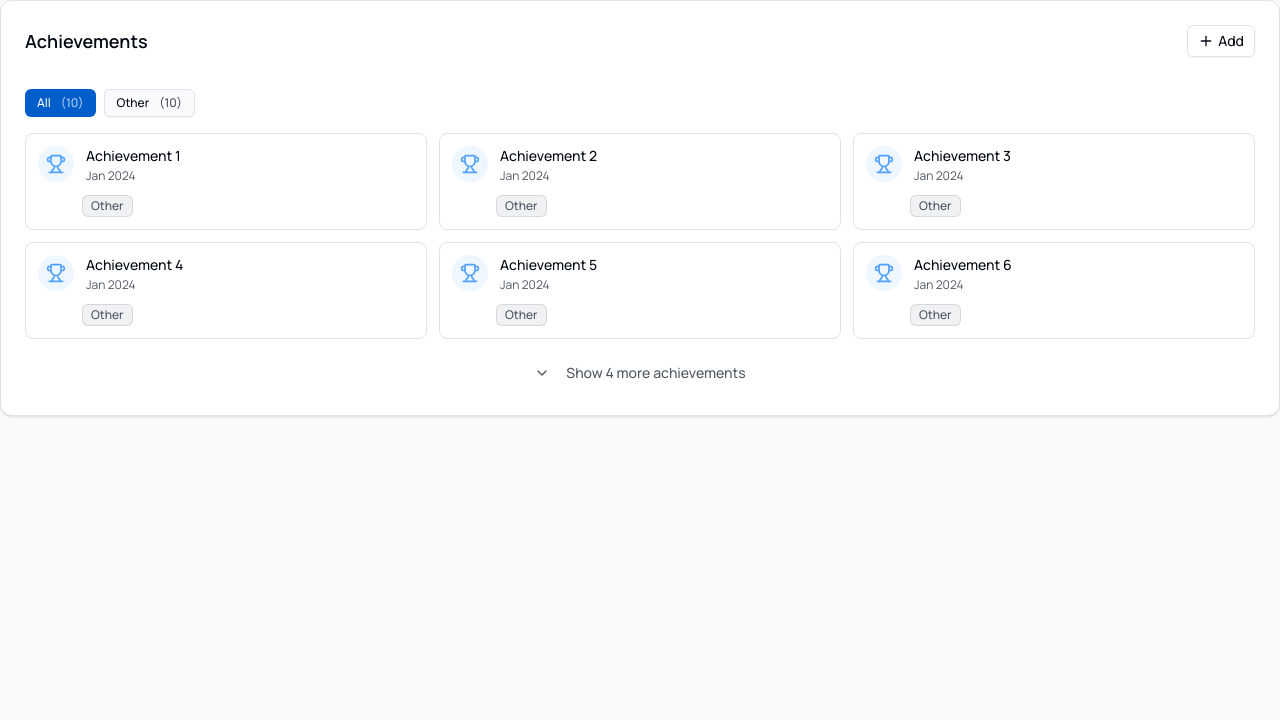
Test: AchievementsSection › expands to show all achievements when 'Show more' clicked
Click the button "Show 4 more achievements" at (640, 373), box [25, 355, 1255, 391]
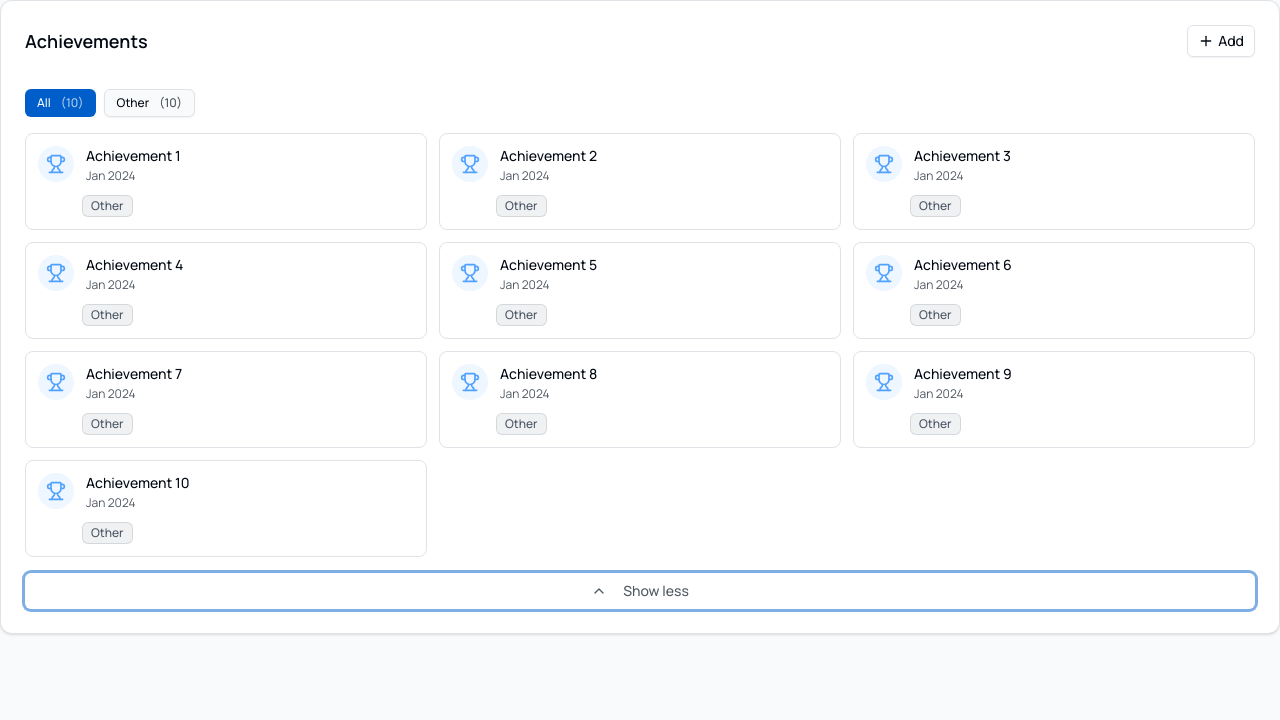
Result: the heading "Achievement 7" is shown at [86, 364, 182, 383]
Result: the heading "Achievement 10" is shown at [86, 473, 190, 492]
Result: the button "Show less" is shown at [25, 573, 1255, 609]
